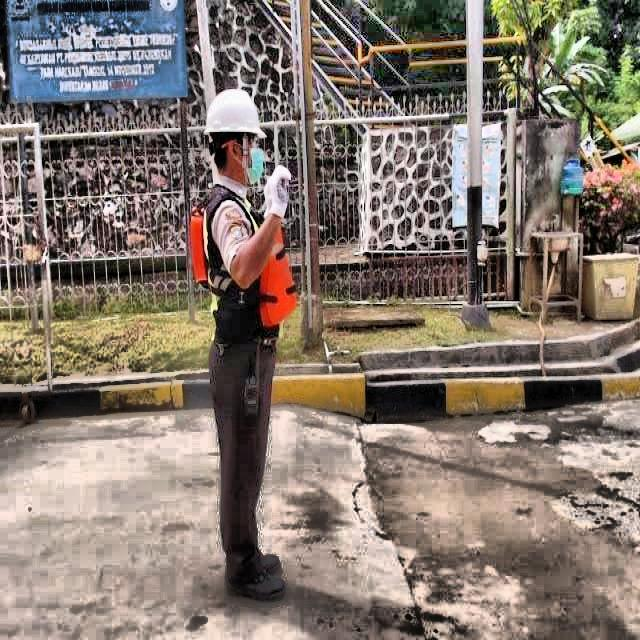safety_jacket: (190, 183, 296, 323)
